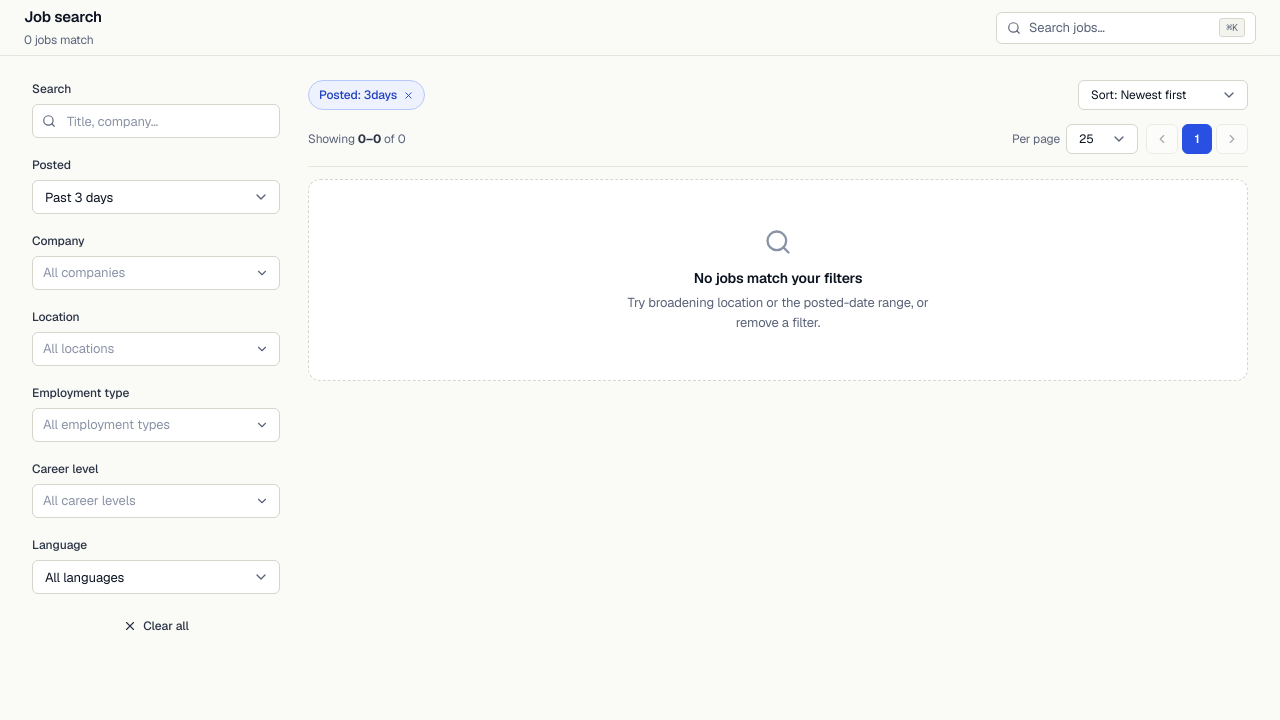
it: JobSearchScreen employment-type and career-level filters › FE-EMP-08 Employment Type MultiSelect renders options and humanised labels
This screenshot has width=1280, height=720.
Check: the text "Employment type" is shown, box [32,385,129,401]
Open the Employment Type multiselect by clicking its trigger
Click the text "All employment types": (106, 425) [43,416,170,433]
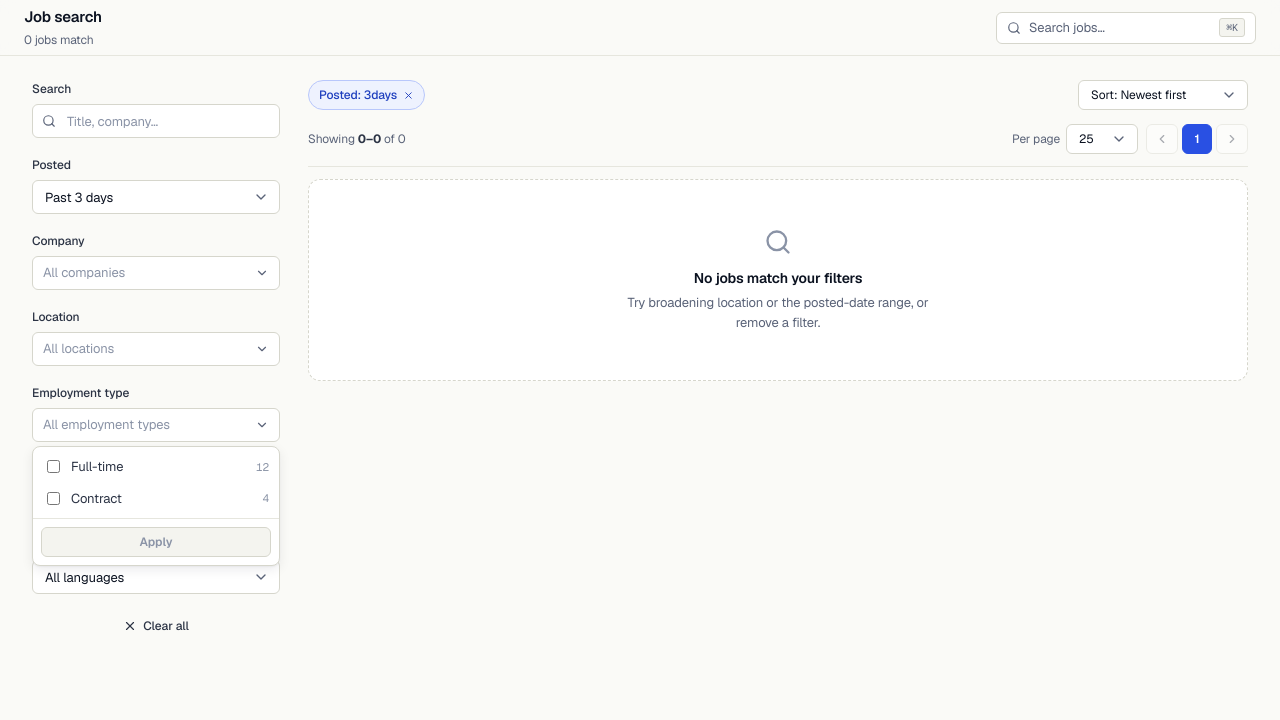
Check: the text "Full-time" is shown, box [71,458,123,475]
Check: the text "Contract" is shown, box [71,490,122,506]
Check: the text "12" is shown, box [256,458,269,475]
